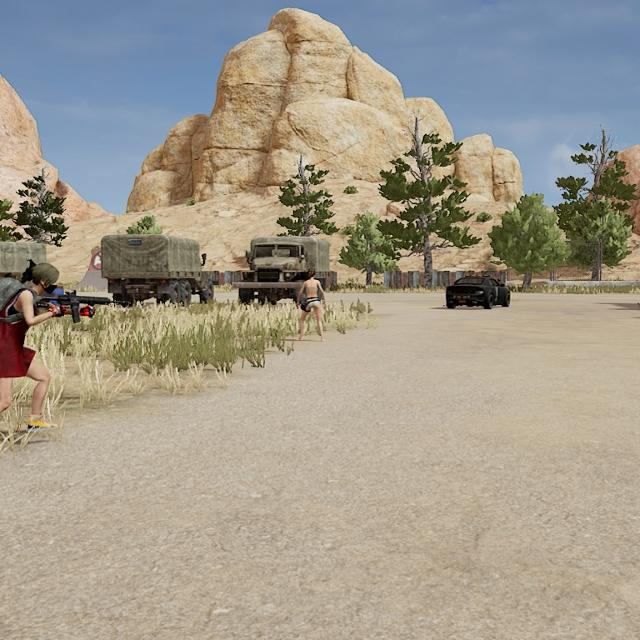head: (29, 260, 61, 292), (305, 267, 318, 281)
people: (0, 259, 65, 439), (295, 266, 329, 342)
